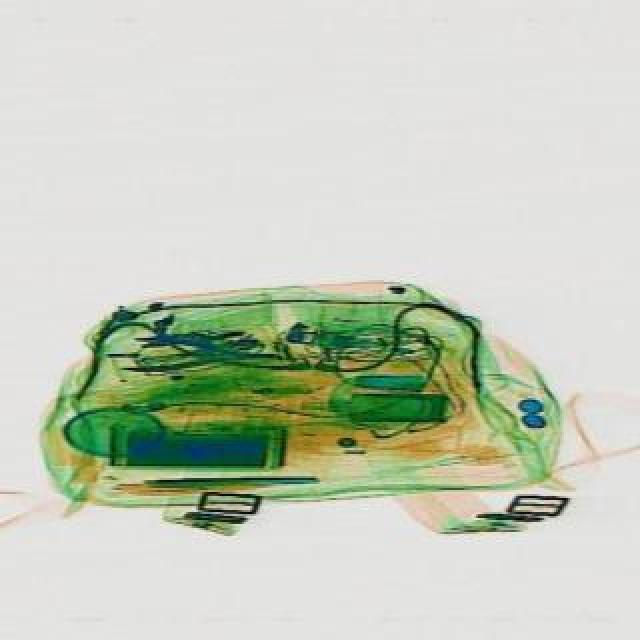wrench: (118, 334, 272, 374)
